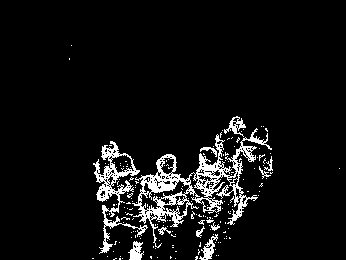person: (141, 148, 190, 256), (195, 145, 230, 259), (114, 153, 147, 260), (95, 141, 125, 254), (241, 122, 272, 210), (218, 113, 245, 201)
